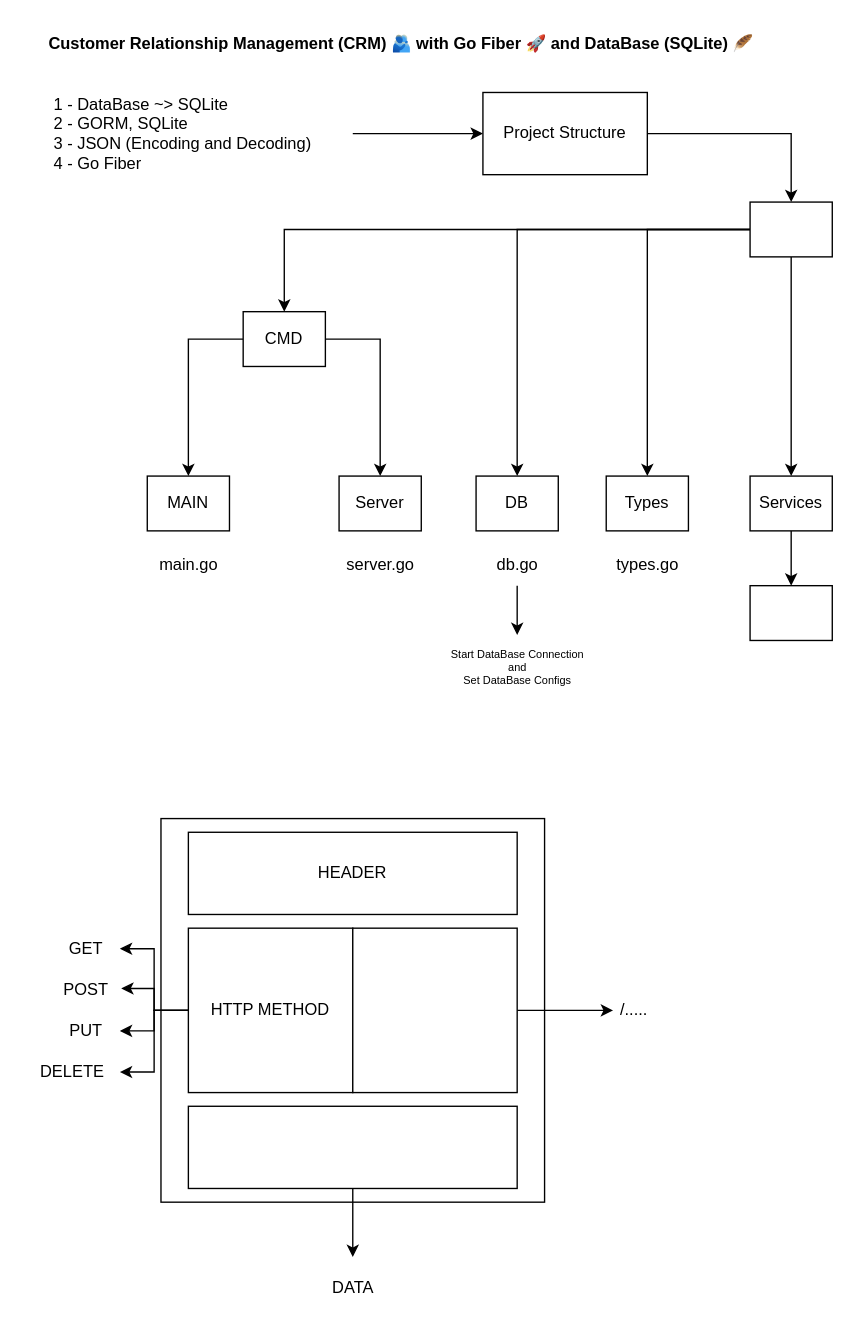
The diagram is 856 pixels wide and 1332 high, and some of its shapes have lost their labels. Here are the shapes that lost their labels. From the top down, the centre of each, then its label:
At pixel 790 229: "SRC".
At pixel 790 612: "Leads".
At pixel 434 1010: "ENDPOINT".
At pixel 352 1146: "BODY".
